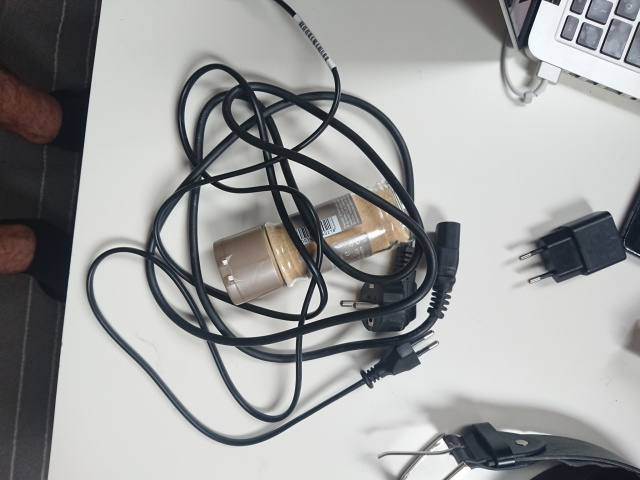Kotanyi Garlic Granules 70g: (209, 175, 419, 308)
